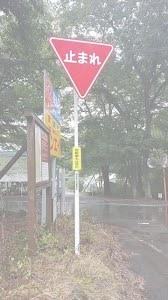Regulatory_sign_triangle: (38, 29, 118, 102)
